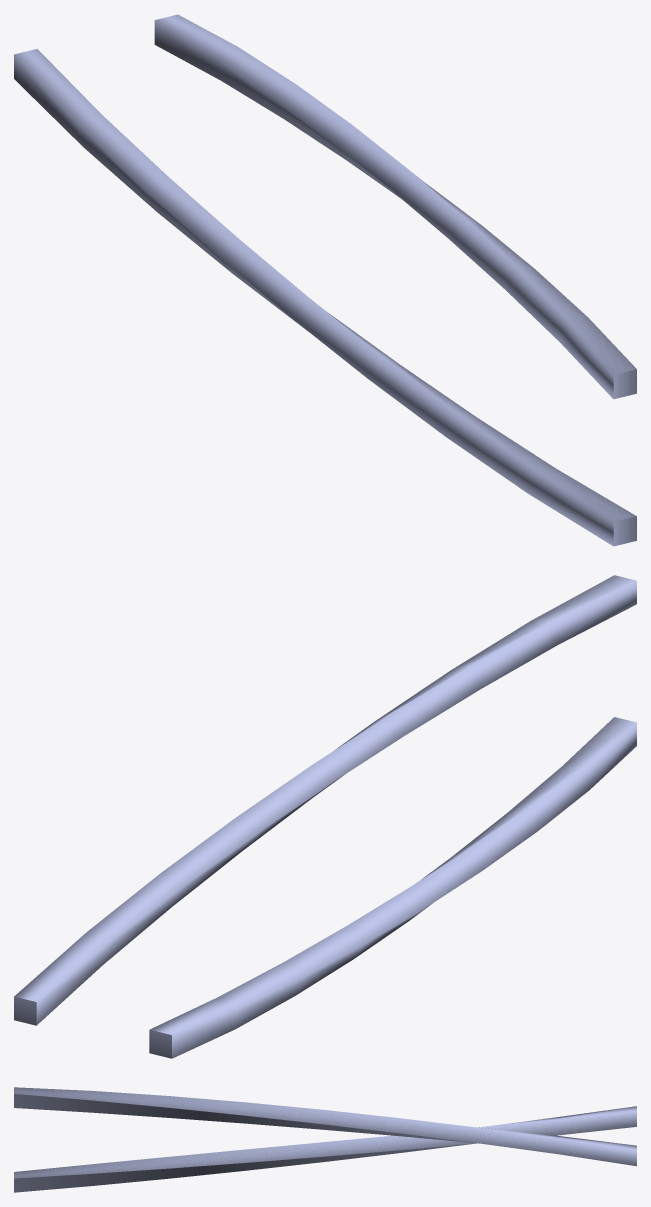
Rendered from railroad-rail-straight-skew-right-side.glb.
3 renders of one model, top to bottom at view 1: azimuth 30°, elevation 25°; view 2: azimuth 150°, elevation 25°; view 3: azimuth 270°, elevation 25°, orthographic. The views are drawn at different scales.
Visible parts, largest first — view 1: railroad-rail-straight-skew-right-side; view 2: railroad-rail-straight-skew-right-side; view 3: railroad-rail-straight-skew-right-side.
Boxes of the visible parts, x1,y1,x2,y2 form: railroad-rail-straight-skew-right-side: (14, 14, 636, 546); railroad-rail-straight-skew-right-side: (14, 575, 636, 1058); railroad-rail-straight-skew-right-side: (14, 1087, 636, 1192).
Size of the model in its own units: 0.7136 by 0.7136 by 4.
1 material, 1 textured.
